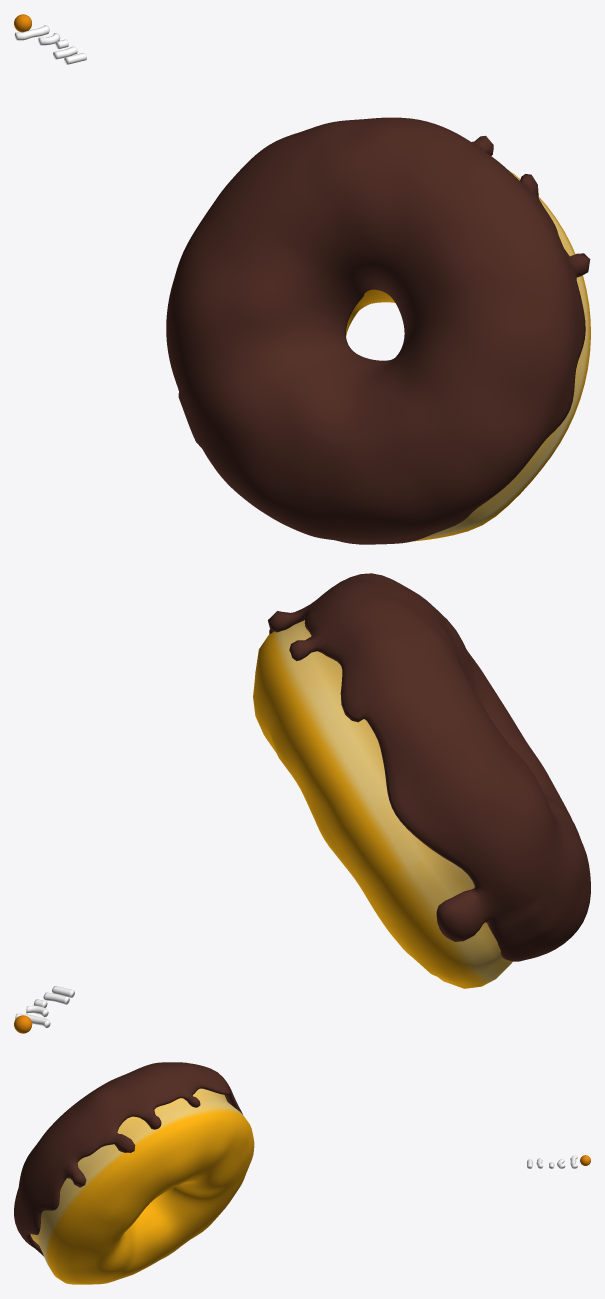
File: donut.glb
The picture shows the model from 3 angles, top to bottom: view 1: azimuth 30°, elevation 25°; view 2: azimuth 150°, elevation 25°; view 3: azimuth 270°, elevation 25°; orthographic projection. The views are drawn at different scales.
Visible parts, largest first — view 1: Icing, Donut; view 2: Icing, Donut; view 3: Donut, Icing.
Part boxes in pixels (box(x1,y1,x2,y2)): Icing: box(166, 117, 590, 544); Donut: box(346, 170, 590, 541); Icing: box(268, 573, 590, 961); Donut: box(253, 620, 512, 988); Donut: box(30, 1088, 254, 1284); Icing: box(14, 1062, 242, 1256).
Size of what is drawn, in the model's own units: 0.0897 by 0.0967 by 0.2248.
Materials: 4 (1 with a texture image).
